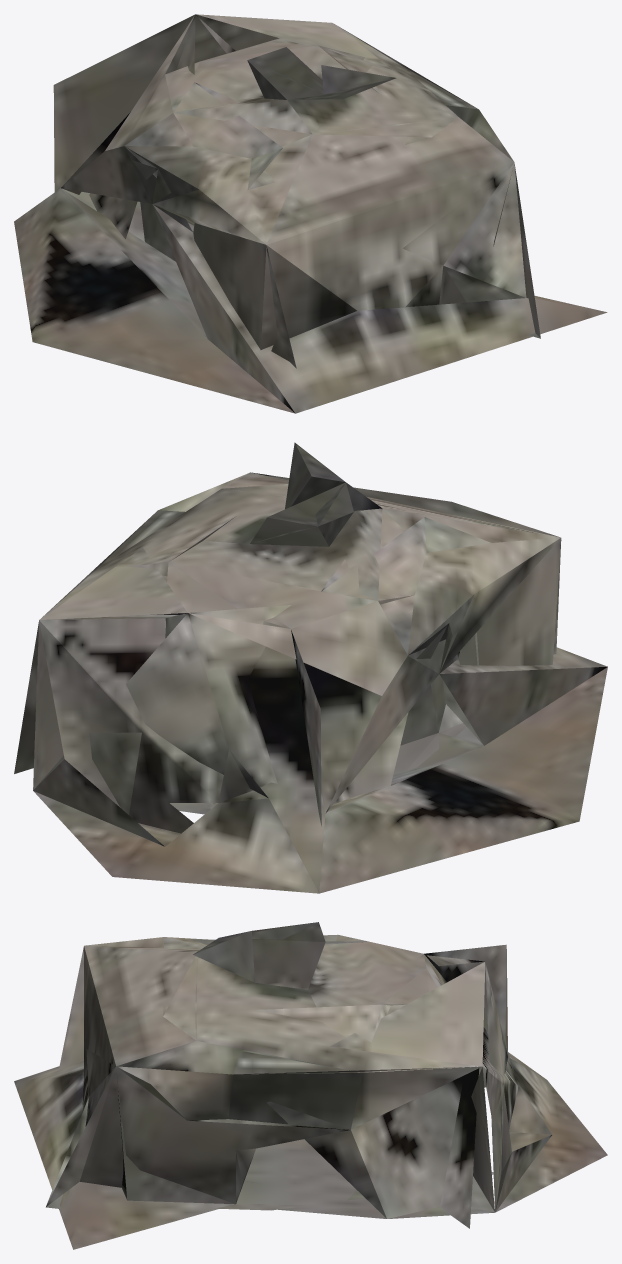
The model's file is bunker_1230409187_lod1.glb.
The picture shows the model from 3 angles, top to bottom: view 1: azimuth 30°, elevation 25°; view 2: azimuth 150°, elevation 25°; view 3: azimuth 270°, elevation 25°; orthographic projection. The views are drawn at different scales.
Bounding box in the file's own units: 7.28 × 3.46 × 8.25.
1 material, 1 textured.
